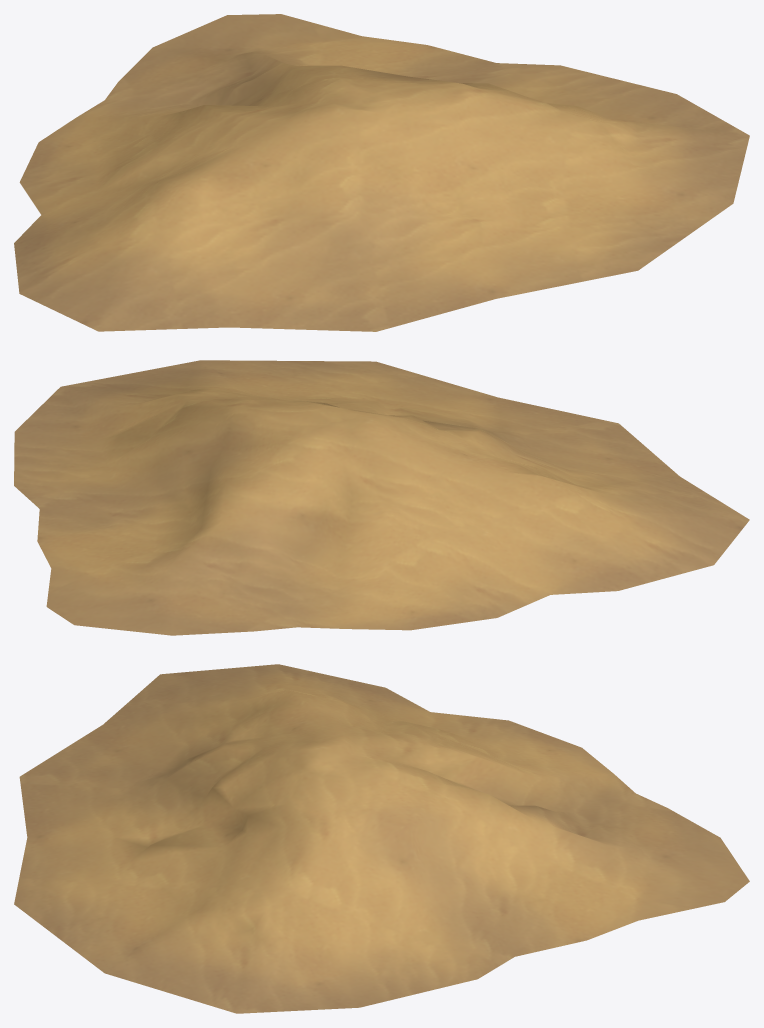
File: Area_13_6.fbx
3 renders of one model, top to bottom at view 1: azimuth 30°, elevation 25°; view 2: azimuth 150°, elevation 25°; view 3: azimuth 270°, elevation 25°, orthographic. The views are drawn at different scales.
Visible parts, largest first — view 1: Area_13_6; view 2: Area_13_6; view 3: Area_13_6.
Part boxes in pixels (box(x1,y1,x2,y2)): Area_13_6: box(14, 14, 749, 331); Area_13_6: box(14, 360, 749, 635); Area_13_6: box(14, 664, 749, 1013).
Size of the model in its own units: 5952 by 678 by 5295.
1 material, 1 textured.
